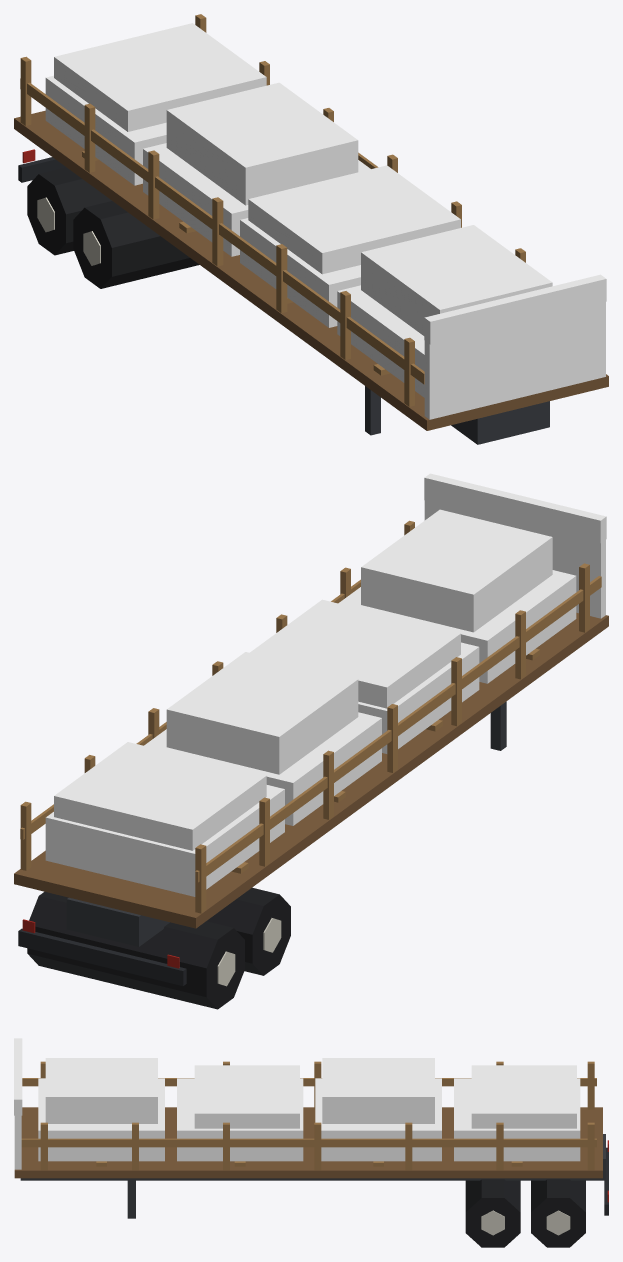
The model's file is rt_flatbed_b.glb.
3 renders of one model, top to bottom at view 1: azimuth 30°, elevation 25°; view 2: azimuth 150°, elevation 25°; view 3: azimuth 270°, elevation 25°, orthographic. The views are drawn at different scales.
Visible parts, largest first — view 1: model; view 2: model; view 3: model.
Boxes of the visible parts, x1,y1,x2,y2 form: model: [14, 14, 608, 444]; model: [14, 473, 608, 1009]; model: [14, 1038, 608, 1247].
Bounding box in the file's own units: 2.52 × 2.74 × 10.01.
